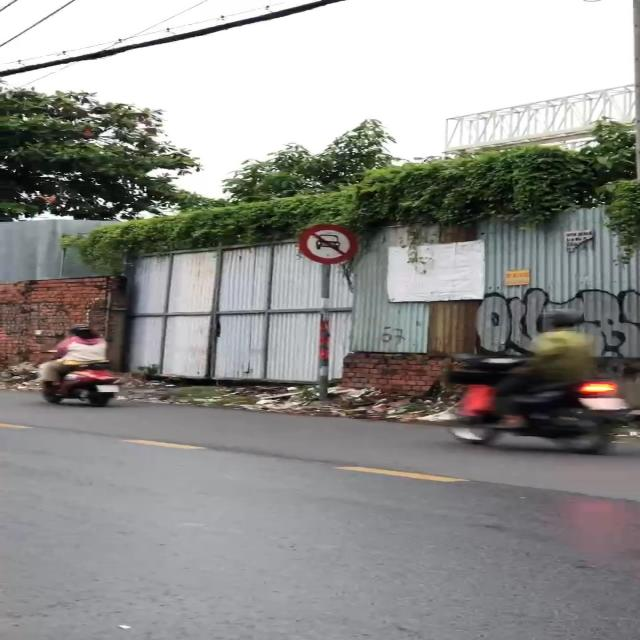Bien bao cam xe oto: (298, 222, 360, 265)
